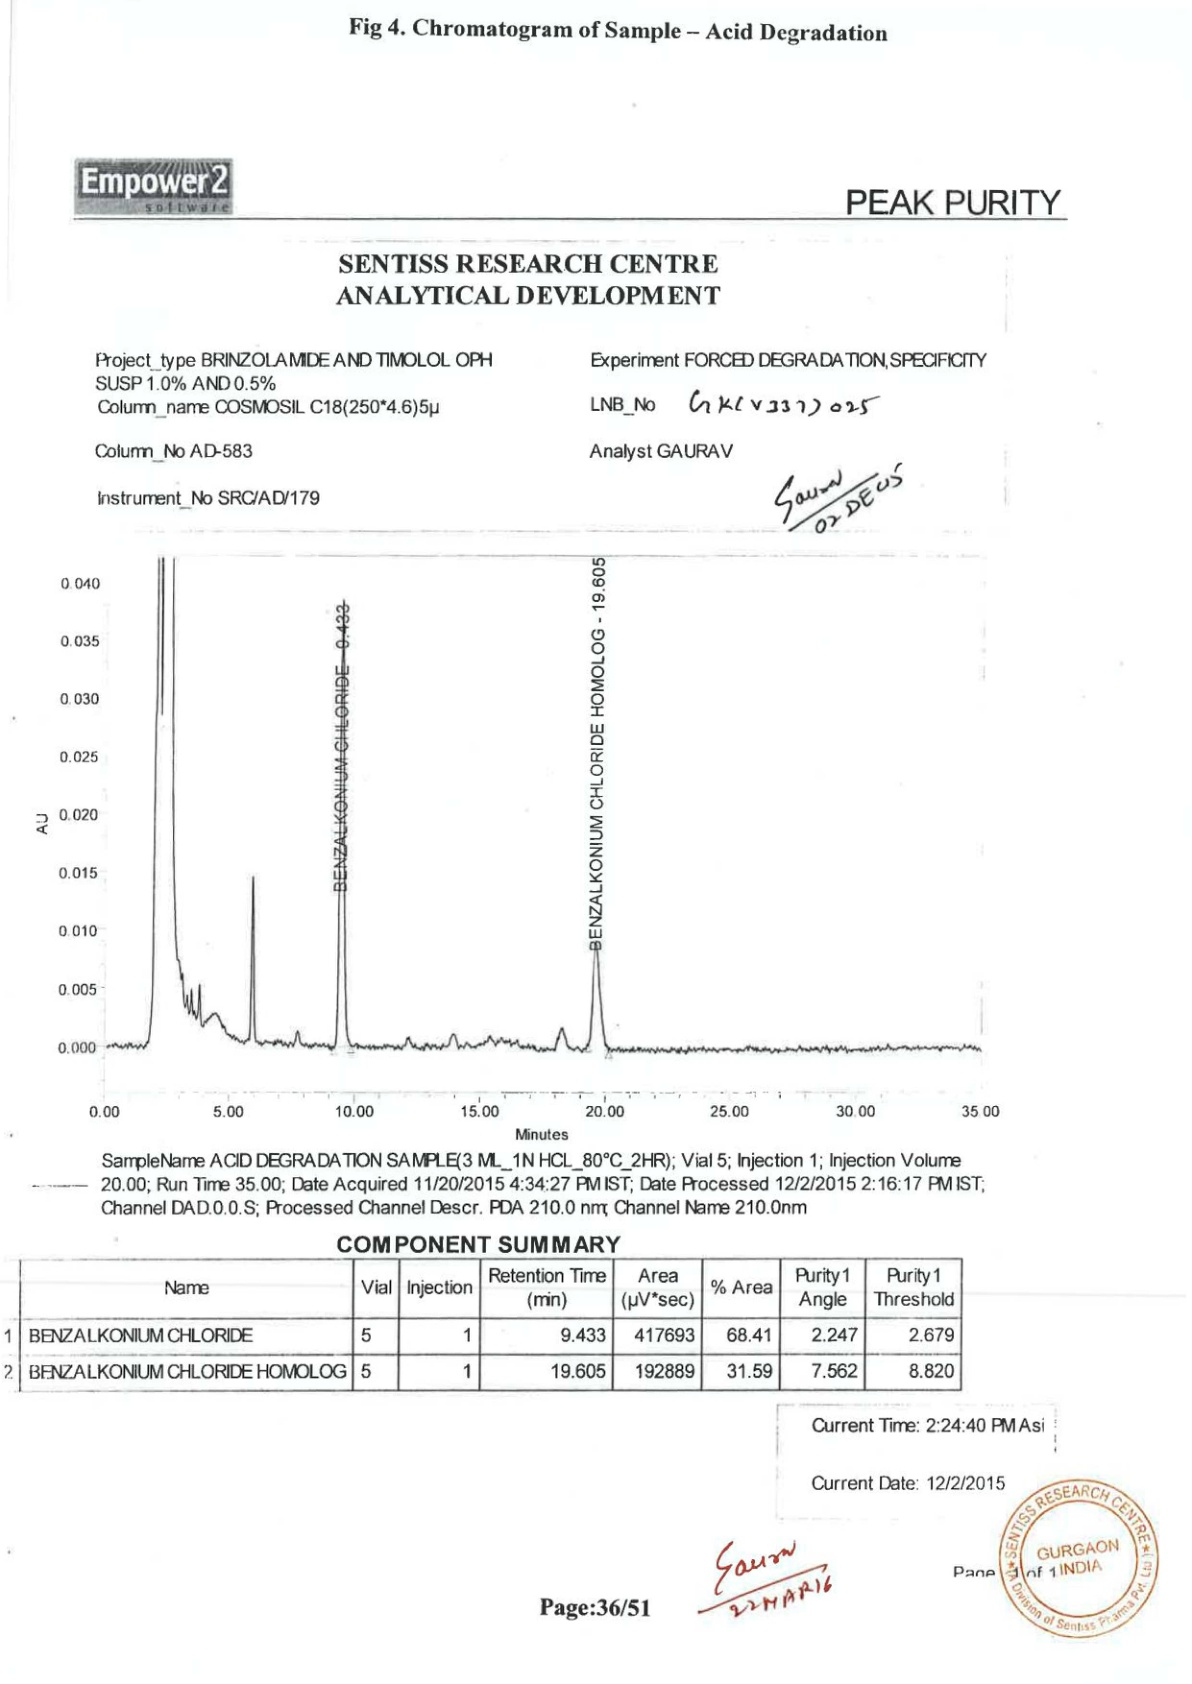full_lined: (17, 1256, 964, 1394)
nolines: (89, 346, 989, 511)
